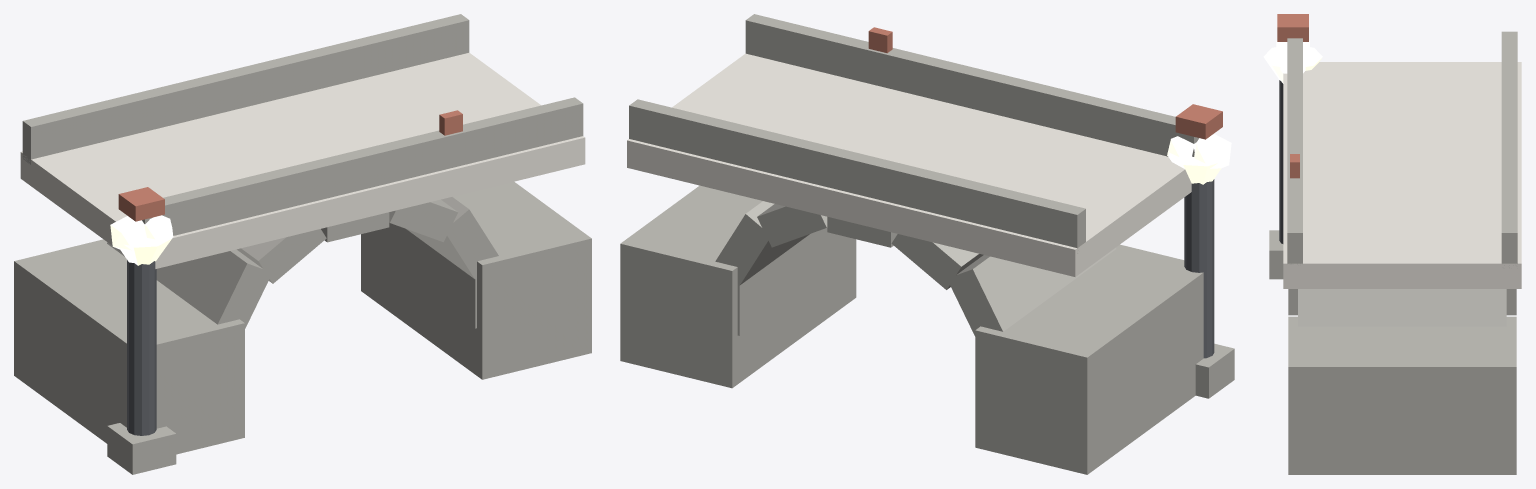
File: LM25_MindCareAI.glb
3 views of the same model, side by side, from view 1: azimuth 30°, elevation 25°; view 2: azimuth 150°, elevation 25°; view 3: azimuth 270°, elevation 25° (orthographic). The views are drawn at different scales.
Visible parts, largest first — view 1: Deck, AbutL, AbutR, RailB, RailF, ArchSeg5, LampPost, ArchSeg0, LampBase, ArchSeg1, ArchSeg4, ArchSeg2 (+4 smaller); view 2: Deck, AbutL, AbutR, RailB, RailF, ArchSeg5, ArchSeg0, LampPost, ArchSeg1, ArchSeg4, ArchSeg2, LampBase (+4 smaller); view 3: Deck, AbutR, ArchSeg1, RailB, RailF, LampCap, LampPost, LampBase, AbutL, HeartTip, HeartR.
Part boxes in pixels (x1,y1,x2,y2): Deck: (20,52,585,268); AbutL: (14,239,244,454); AbutR: (361,182,591,379); RailB: (22,14,469,164); RailF: (142,97,583,235); ArchSeg5: (107,242,272,328); LampPost: (127,260,156,435); ArchSeg0: (364,223,476,328); LampBase: (107,423,176,474); ArchSeg1: (406,197,498,278); ArchSeg4: (237,229,326,283); ArchSeg2: (389,199,457,242); Deck: (627,53,1191,276); AbutL: (975,244,1203,474); AbutR: (620,185,856,388); RailB: (629,99,1085,253); RailF: (745,14,1198,156); ArchSeg5: (947,247,1116,336); ArchSeg0: (737,228,852,335); LampPost: (1184,179,1214,358); ArchSeg1: (715,201,809,285); ArchSeg4: (891,234,983,289); ArchSeg2: (757,204,827,247); LampBase: (1195,343,1234,398); Deck: (1283,62,1521,288); AbutR: (1288,316,1516,474); ArchSeg1: (1298,289,1506,326); RailB: (1501,31,1517,267); RailF: (1287,38,1302,264); LampCap: (1277,14,1308,41); LampPost: (1279,80,1283,243); LampBase: (1269,230,1283,279); AbutL: (1288,289,1516,315); HeartTip: (1263,47,1322,83); HeartR: (1276,43,1309,73).
Bounding box in the file's own units: 2.61 × 1.41 × 1.3.
